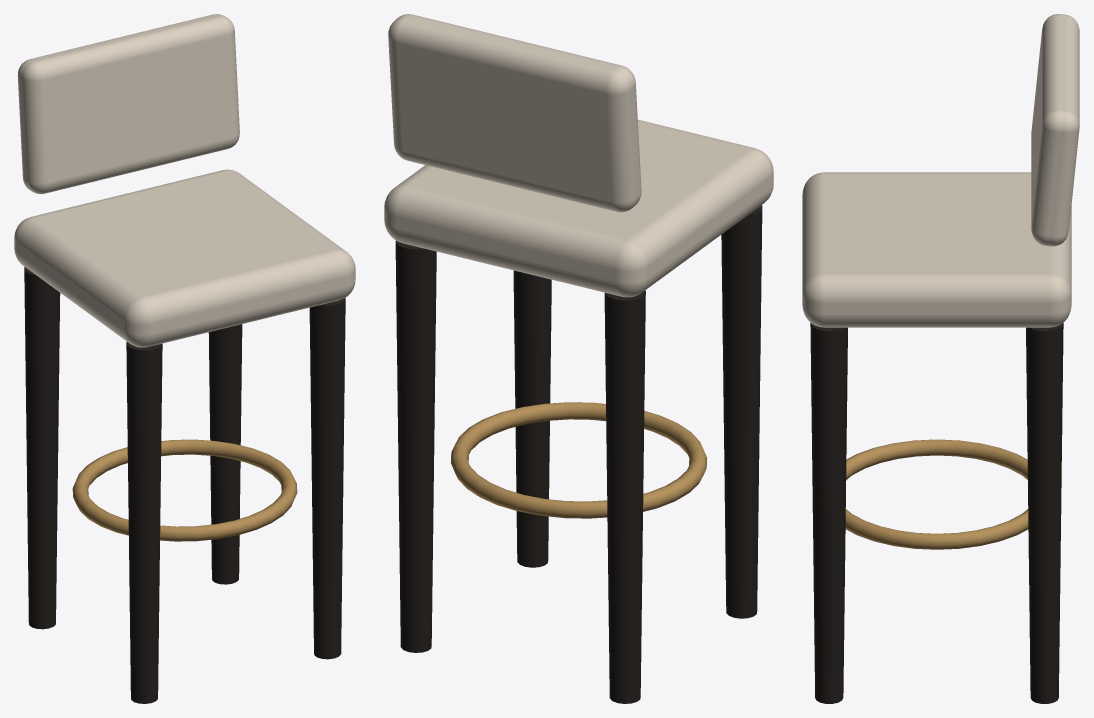
The model's file is bar.glb.
3 renders of one model, left to right at view 1: azimuth 30°, elevation 25°; view 2: azimuth 150°, elevation 25°; view 3: azimuth 270°, elevation 25°, orthographic. The views are drawn at different scales.
Bounding box in the file's own units: 0.45 × 1.05 × 0.4474.
